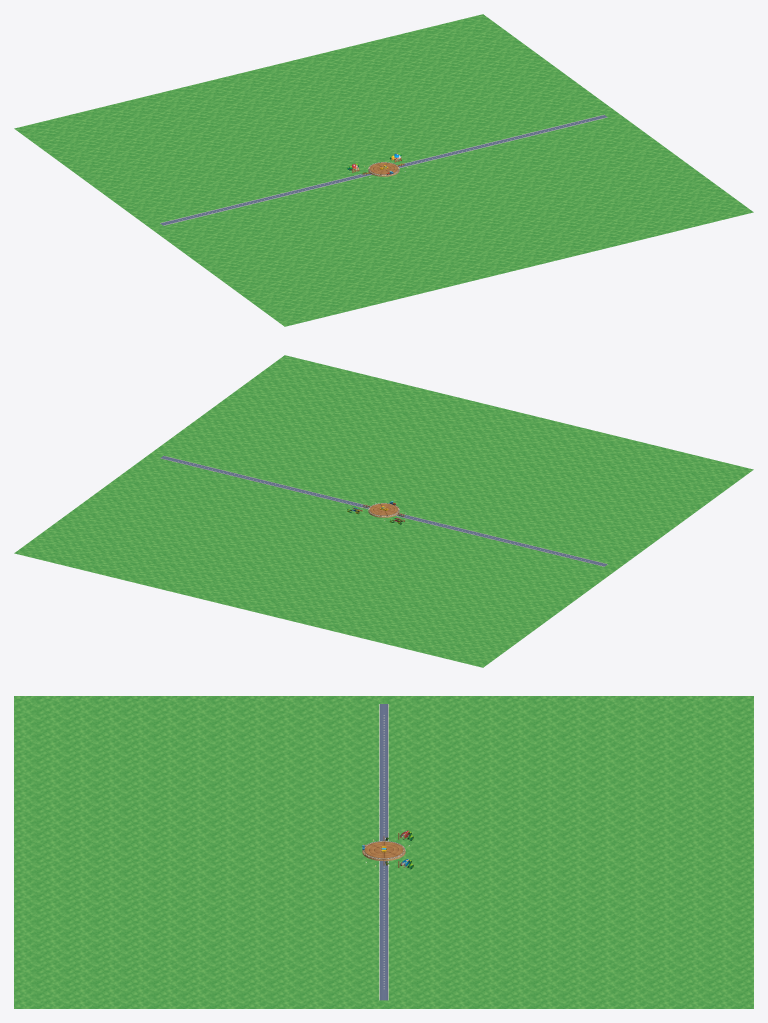
File: farm-CyqdJxOq.glb
3 renders of one model, top to bottom at view 1: azimuth 30°, elevation 25°; view 2: azimuth 150°, elevation 25°; view 3: azimuth 270°, elevation 25°, orthographic. The views are drawn at different scales.
Visible parts, largest first — view 1: Pasture, Road; view 2: Pasture, Road; view 3: Pasture, Road.
Boxes of the visible parts, x1,y1,x2,y2 form: Pasture: [14, 14, 753, 326]; Road: [160, 114, 607, 225]; Pasture: [14, 355, 753, 667]; Road: [160, 455, 607, 566]; Pasture: [14, 696, 753, 1008]; Road: [379, 704, 388, 1000].
Size of the model in its own units: 190 by 2.12 by 190.
7 materials, 7 textured.
